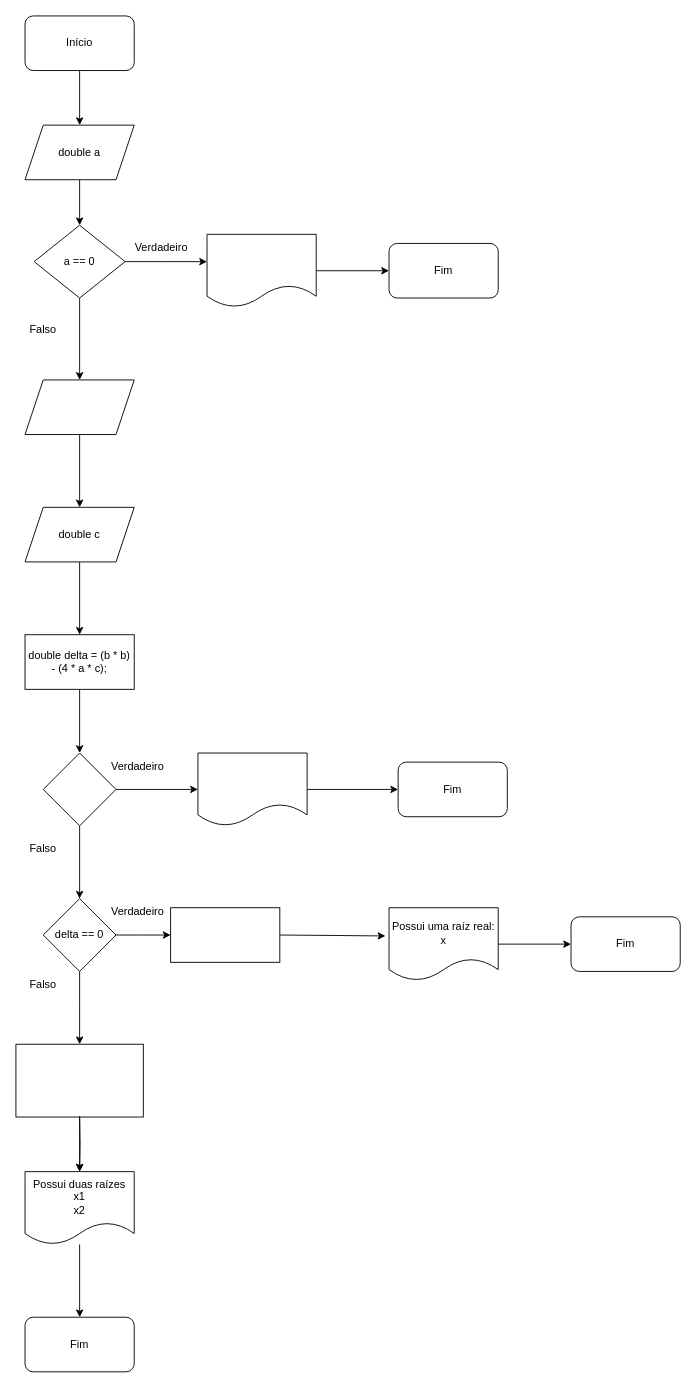
Some shapes in this 696 by 1388 pixel diagram are drawn without their labels. The centre of each missing label's shape, as x and y in pixels:
"A equação não possui raízes" goes at point (252, 789).
"delta < 0" goes at point (79, 789).
"double b" goes at point (79, 407).
"Não é equação do 2 grau." goes at point (261, 270).
"x = (-b + math.sqrt(delta)) / (2a); x = (-b - math.sqrt(delta)) / (2a);" goes at point (79, 1080).
"x = -b / (2a)" goes at point (225, 934).
